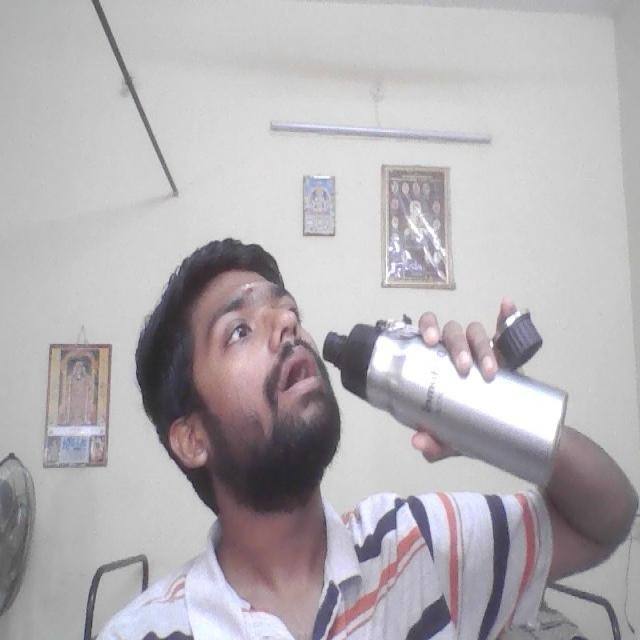Drinking: (327, 303, 575, 486)
